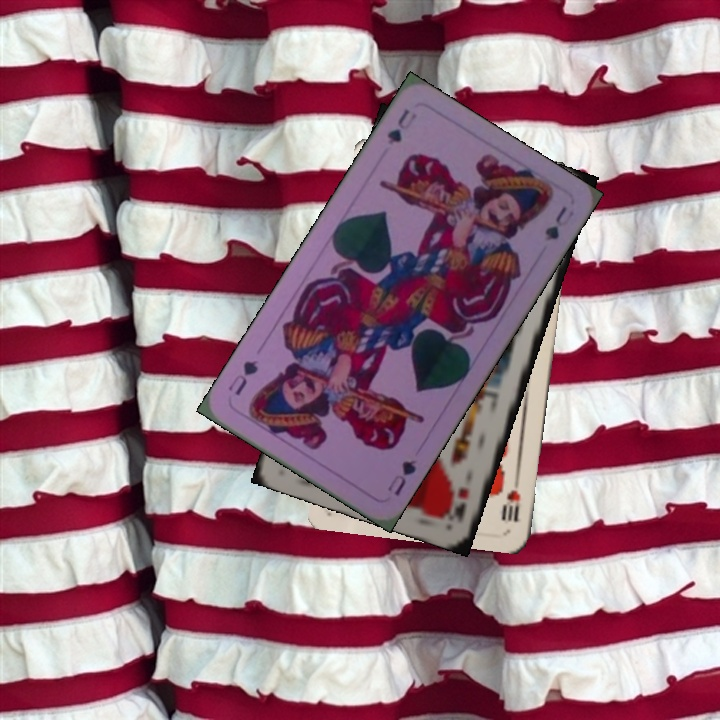GU: (383, 455, 420, 499), (382, 105, 420, 147)
H10: (499, 471, 523, 524)
HK: (449, 482, 472, 526)
